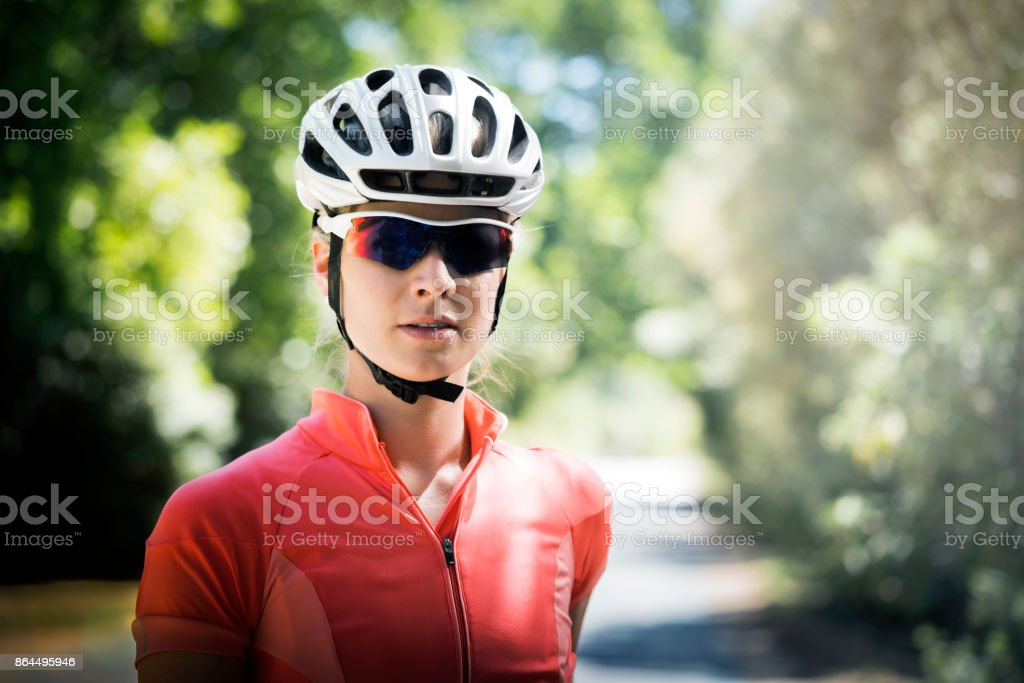helmet: (294, 65, 544, 381)
